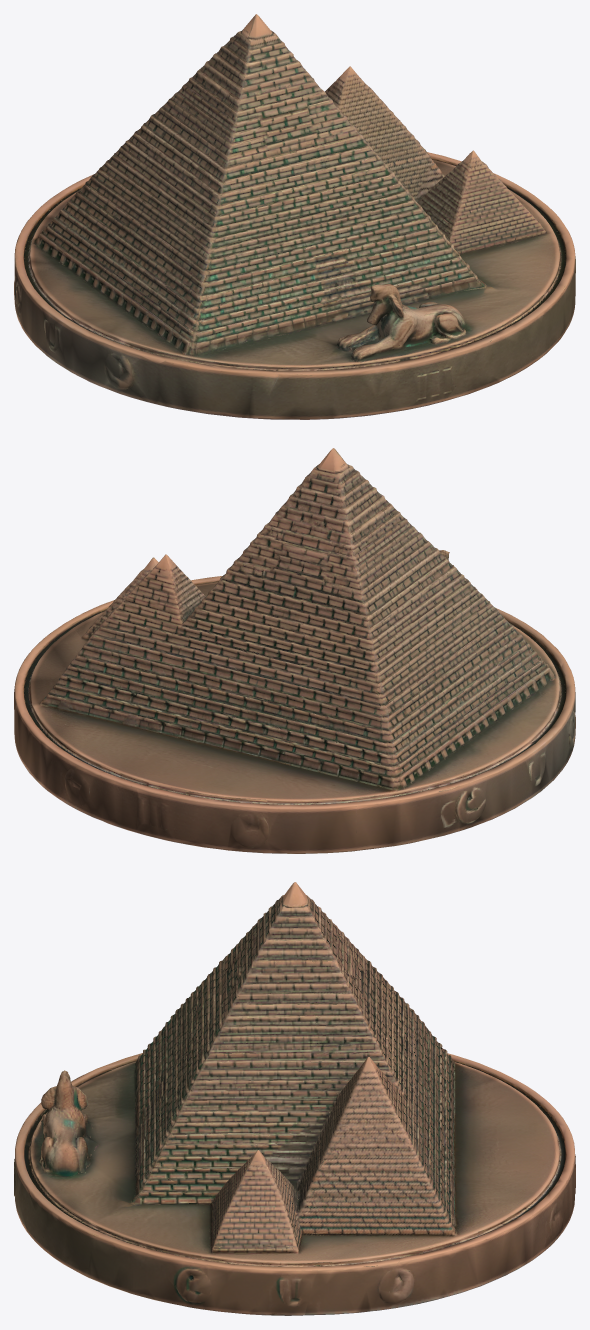
The model's file is pyramid_giza_aurora.glb.
3 views of the same model, one above another, from view 1: azimuth 30°, elevation 25°; view 2: azimuth 150°, elevation 25°; view 3: azimuth 270°, elevation 25° (orthographic).
Parts seen in each view (by area): view 1: Mesh_0; view 2: Mesh_0; view 3: Mesh_0.
Boxes of the visible parts, x1,y1,x2,y2 form: Mesh_0: [14, 14, 575, 419]; Mesh_0: [14, 448, 575, 853]; Mesh_0: [14, 882, 575, 1315].
Bounding box in the file's own units: 1.91 × 1.12 × 1.91.
1 material, 1 textured.
